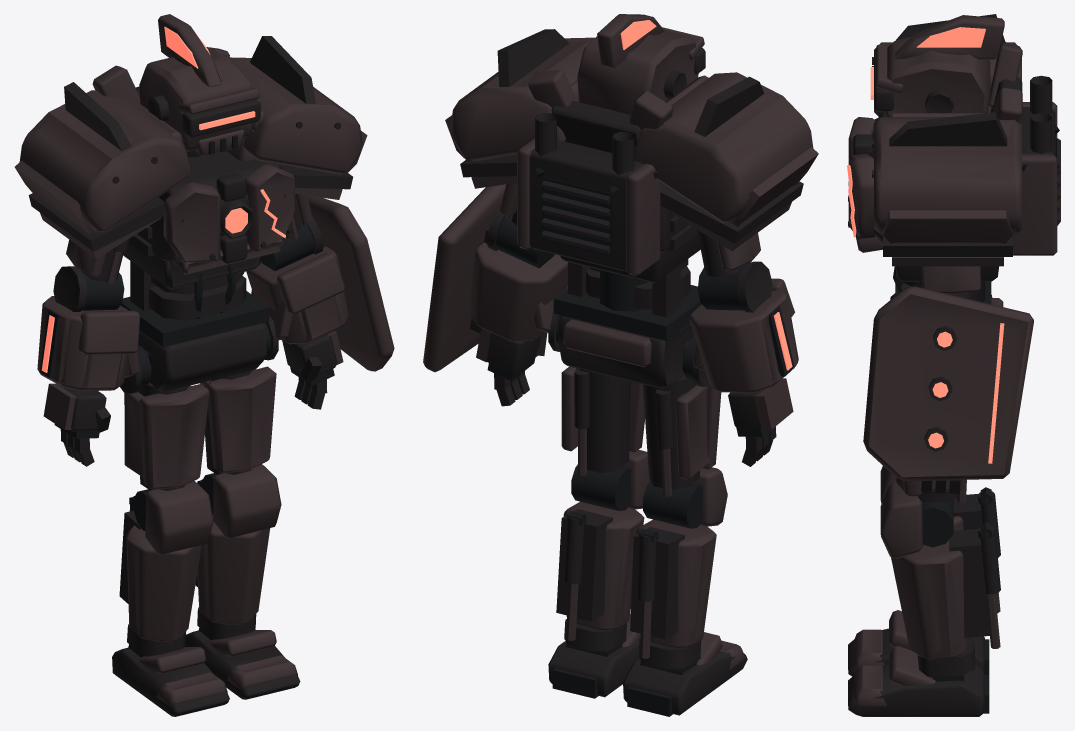
Rendered from warden.fbx.
The picture shows the model from 3 angles, left to right: view 1: azimuth 30°, elevation 25°; view 2: azimuth 150°, elevation 25°; view 3: azimuth 270°, elevation 25°; orthographic projection. The views are drawn at different scales.
Visible parts, largest first — view 1: clavicle_R, chest, forearm_L, shin_R, clavicle_L, shin_L, hips, head, forearm_R, thigh_R, thigh_L, foot_R (+6 smaller); view 2: chest, clavicle_R, forearm_L, shin_R, shin_L, hips, forearm_R, clavicle_L, head, thigh_L, thigh_R, foot_R (+5 smaller); view 3: forearm_L, clavicle_L, shin_L, chest, head, foot_L, foot_R, shin_R, upperarm_L, thigh_L, clavicle_R, hand_L (+1 smaller).
Part boxes in pixels (x1=…): clavicle_R: x1=14, y1=82, x2=191, y2=259; chest: x1=92, y1=47, x2=294, y2=289; forearm_L: x1=246, y1=195, x2=394, y2=371; shin_R: x1=119, y1=481, x2=213, y2=656; clavicle_L: x1=229, y1=36, x2=367, y2=199; shin_L: x1=195, y1=464, x2=281, y2=639; hips: x1=120, y1=289, x2=292, y2=393; head: x1=139, y1=14, x2=260, y2=156; forearm_R: x1=37, y1=266, x2=140, y2=391; thigh_R: x1=124, y1=350, x2=209, y2=490; thigh_L: x1=203, y1=366, x2=276, y2=474; foot_R: x1=112, y1=644, x2=229, y2=716; chest: x1=517, y1=69, x2=708, y2=282; clavicle_R: x1=634, y1=72, x2=818, y2=251; forearm_L: x1=423, y1=184, x2=567, y2=372; shin_R: x1=630, y1=467, x2=727, y2=668; shin_L: x1=556, y1=449, x2=650, y2=651; hips: x1=534, y1=285, x2=710, y2=388; forearm_R: x1=689, y1=261, x2=798, y2=392; clavicle_L: x1=445, y1=29, x2=594, y2=188; head: x1=577, y1=14, x2=705, y2=114; thigh_L: x1=561, y1=366, x2=644, y2=475; thigh_R: x1=642, y1=341, x2=721, y2=496; foot_R: x1=623, y1=632, x2=747, y2=716; forearm_L: x1=863, y1=286, x2=1033, y2=481; clavicle_L: x1=872, y1=112, x2=1021, y2=266; shin_L: x1=880, y1=481, x2=1000, y2=677; chest: x1=847, y1=43, x2=1060, y2=281; head: x1=870, y1=15, x2=1004, y2=118; foot_L: x1=848, y1=646, x2=989, y2=716; foot_R: x1=848, y1=610, x2=989, y2=676; shin_R: x1=880, y1=466, x2=1000, y2=613; upperarm_L: x1=919, y1=266, x2=980, y2=298; thigh_L: x1=896, y1=478, x2=966, y2=502; clavicle_R: x1=872, y1=14, x2=1021, y2=116; hand_L: x1=921, y1=480, x2=960, y2=493.
Bounding box in the file's own units: 1.4 × 2.67 × 0.7725.
